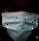with_mask: (2, 1, 39, 41)
